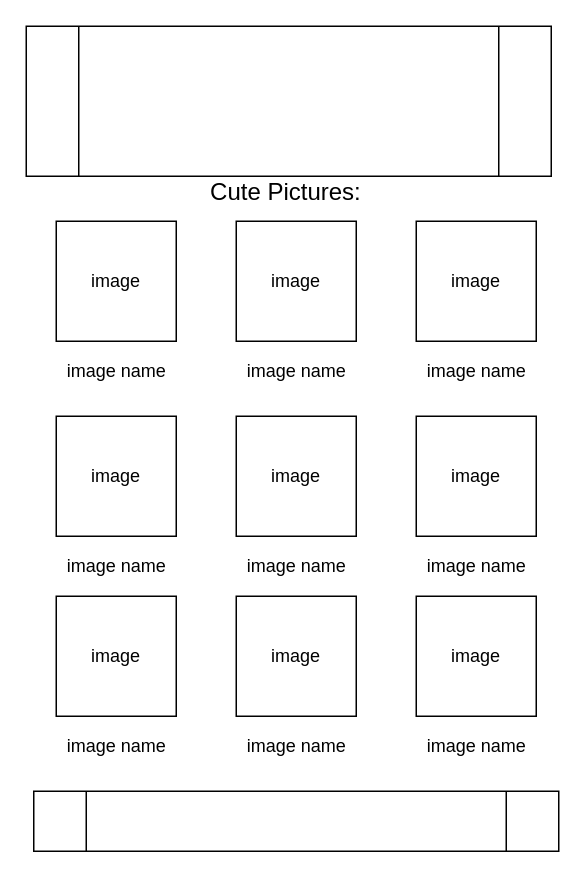
Image size: 585x878. Some labels were removed from this diagram. Here are the shapes that lost their labels. From the top down, the box of each, then its label:
(25, 25, 551, 176): Banner/links/header
(32, 790, 559, 851): Footer/Purchase Links
